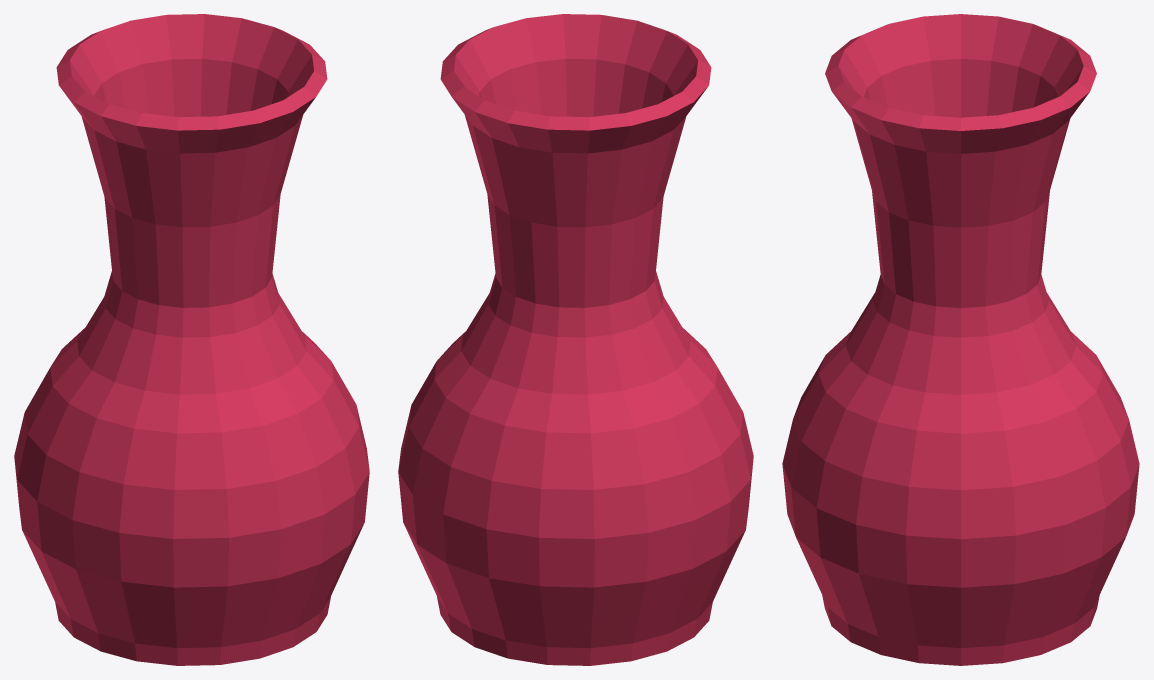
The model's file is vasewhole.fbx.
3 renders of one model, left to right at view 1: azimuth 30°, elevation 25°; view 2: azimuth 150°, elevation 25°; view 3: azimuth 270°, elevation 25°, orthographic.
Parts seen in each view (by area): view 1: vase; view 2: vase; view 3: vase.
Part boxes in pixels (x1,y1,x2,y2): vase: (14,14,369,665); vase: (398,14,753,665); vase: (782,14,1139,665).
Bounding box in the file's own units: 36.96 × 61.95 × 36.96.
